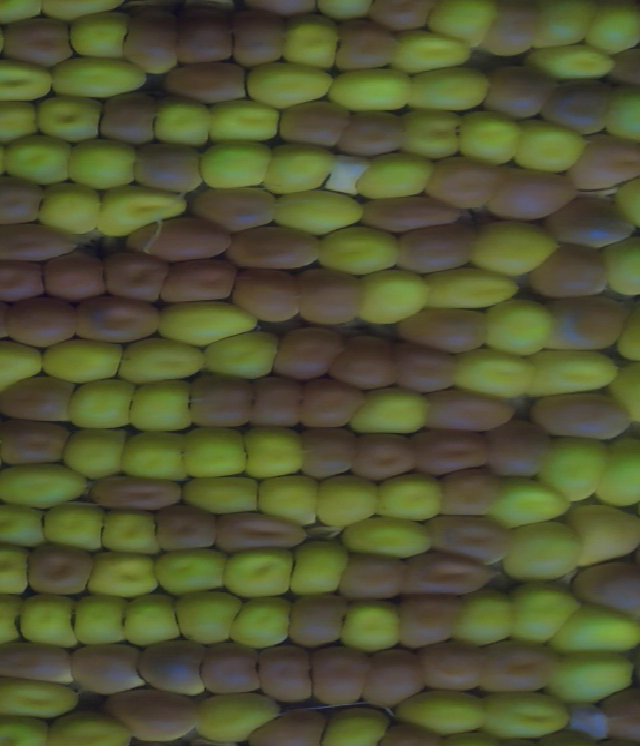fluorescent: (460, 215, 566, 281), (528, 429, 616, 505), (498, 517, 593, 586), (148, 295, 266, 350), (502, 110, 593, 181), (342, 381, 440, 445), (539, 599, 640, 661), (92, 180, 197, 239), (539, 643, 637, 706), (412, 263, 533, 314), (502, 575, 585, 649), (472, 687, 581, 743), (192, 682, 288, 745), (558, 498, 640, 570), (474, 294, 563, 360), (519, 344, 625, 399), (481, 471, 576, 532), (236, 56, 339, 112), (389, 681, 490, 738), (265, 186, 370, 240), (44, 52, 152, 104), (110, 332, 214, 386), (350, 264, 437, 328), (444, 343, 536, 403), (255, 139, 344, 201), (449, 104, 532, 170), (310, 223, 409, 278), (113, 426, 196, 491), (165, 586, 248, 651), (0, 459, 93, 517), (36, 333, 128, 391), (150, 543, 237, 604), (406, 60, 495, 119), (321, 62, 417, 116), (335, 513, 439, 562), (62, 132, 141, 196), (125, 375, 202, 440), (0, 128, 78, 192), (442, 586, 520, 650), (281, 533, 353, 602), (12, 585, 86, 652), (197, 327, 285, 383), (174, 469, 265, 523), (215, 544, 298, 603), (350, 148, 439, 203), (33, 174, 106, 241), (116, 589, 190, 655), (62, 373, 139, 436), (384, 21, 475, 74), (249, 467, 325, 530), (394, 102, 469, 165), (175, 423, 251, 485), (194, 136, 278, 192), (81, 548, 166, 603), (366, 469, 448, 526), (234, 420, 308, 483), (523, 39, 621, 86), (38, 495, 112, 557), (221, 593, 297, 653), (277, 8, 345, 75), (95, 503, 170, 563), (147, 89, 216, 154), (331, 596, 407, 655), (0, 671, 86, 723), (61, 5, 134, 66), (58, 423, 134, 481), (201, 95, 285, 147), (63, 587, 130, 651), (30, 93, 108, 146), (310, 472, 385, 527), (39, 705, 137, 746), (426, 1, 503, 52), (311, 699, 393, 746), (529, 1, 601, 52), (595, 433, 640, 512), (581, 1, 640, 61), (592, 231, 640, 304), (0, 332, 50, 399), (0, 54, 59, 107), (600, 355, 640, 430), (597, 80, 640, 144), (0, 501, 52, 552), (0, 95, 46, 151), (607, 289, 640, 365), (0, 536, 34, 599), (609, 169, 640, 238), (0, 712, 56, 746)
nonfluorescent: (119, 208, 243, 268), (411, 381, 532, 441), (466, 634, 568, 700), (98, 680, 198, 746), (539, 290, 634, 359), (528, 386, 637, 445), (480, 162, 583, 224), (300, 640, 380, 716), (542, 194, 640, 256), (283, 262, 371, 331), (60, 638, 156, 700), (68, 290, 167, 350), (473, 413, 559, 482), (392, 545, 496, 602), (402, 424, 502, 483), (219, 223, 328, 277), (223, 260, 309, 328), (421, 508, 520, 567), (207, 505, 317, 558), (350, 645, 435, 713), (391, 303, 494, 359), (268, 321, 354, 387), (18, 537, 103, 603), (177, 368, 263, 433), (524, 240, 612, 303), (130, 633, 211, 701), (535, 74, 619, 139), (389, 219, 480, 279), (421, 155, 509, 216), (160, 56, 259, 110), (188, 182, 285, 237), (352, 191, 463, 239), (386, 588, 469, 652), (560, 128, 640, 194), (93, 246, 175, 309), (328, 11, 405, 78), (0, 635, 84, 696), (251, 638, 323, 709), (284, 589, 360, 656), (412, 636, 498, 695), (325, 330, 405, 393), (568, 553, 640, 623), (150, 256, 243, 310), (0, 293, 85, 352), (480, 66, 566, 124), (33, 250, 116, 310), (168, 2, 241, 69), (119, 4, 185, 78), (329, 104, 413, 162), (427, 463, 508, 523), (270, 98, 358, 153), (342, 427, 423, 486), (0, 367, 78, 428), (195, 636, 267, 702), (128, 136, 205, 197), (0, 414, 78, 474), (379, 339, 461, 396), (292, 372, 371, 431), (94, 89, 168, 151), (147, 498, 223, 558), (227, 4, 294, 72), (81, 471, 184, 515), (294, 422, 364, 486), (477, 1, 549, 63), (240, 368, 307, 432), (333, 551, 416, 602), (0, 218, 84, 268), (0, 16, 77, 70), (235, 705, 329, 746), (591, 677, 640, 746), (0, 167, 51, 232), (0, 255, 53, 305), (602, 42, 640, 97)
